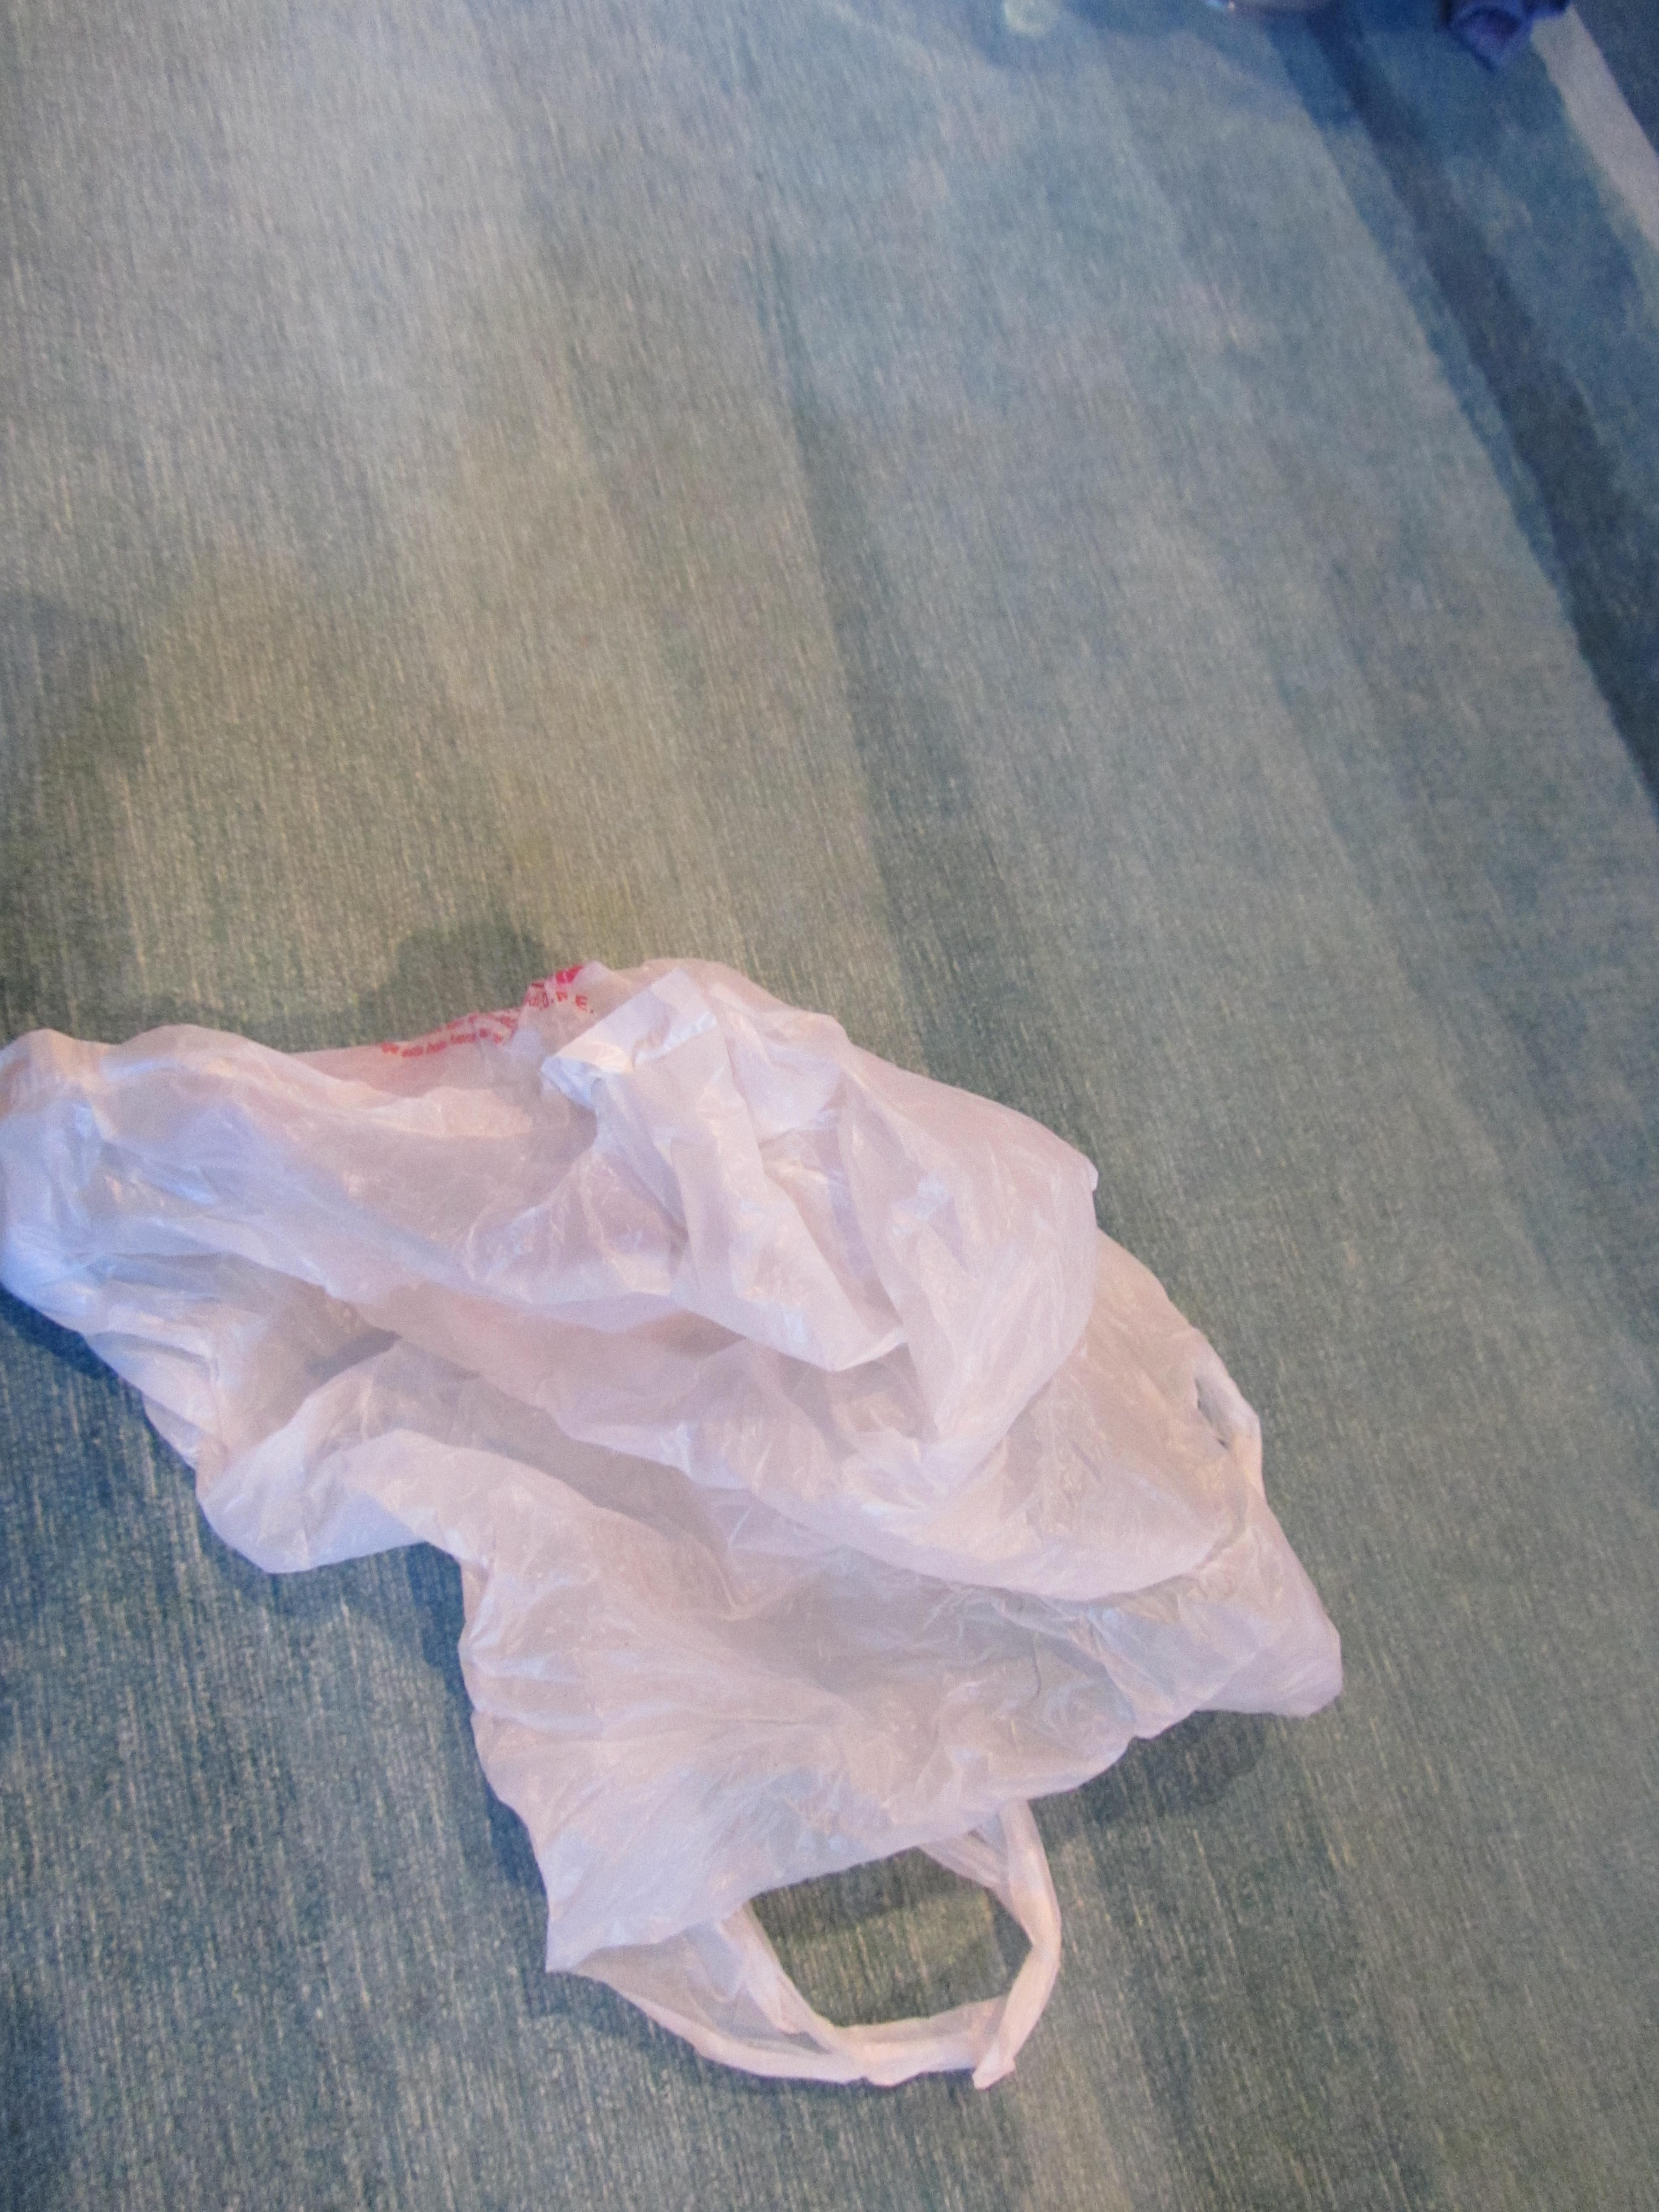plastic_bag: (0, 948, 1366, 2109)
